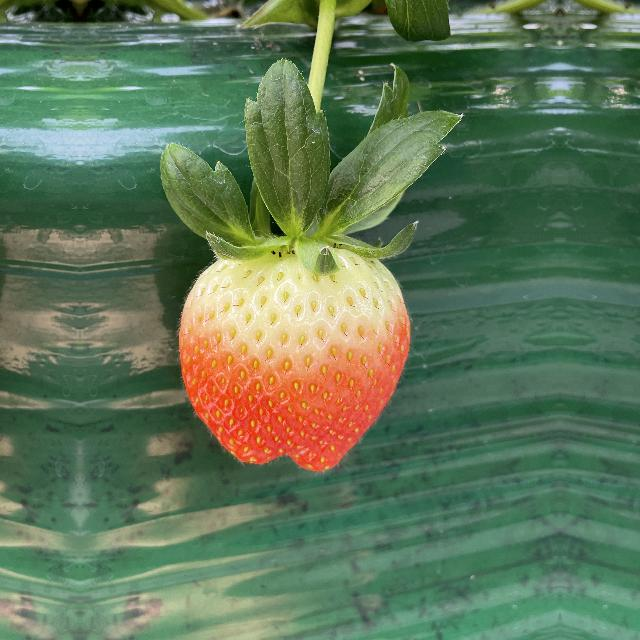Health_75: (172, 240, 416, 470)
